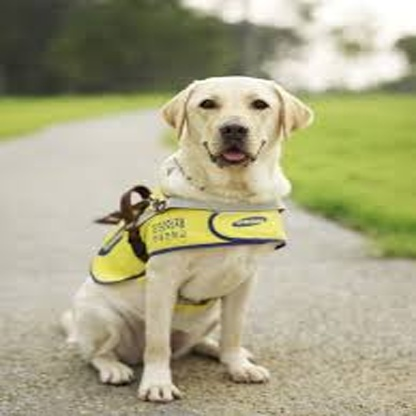guide-dog: (56, 69, 318, 403)
